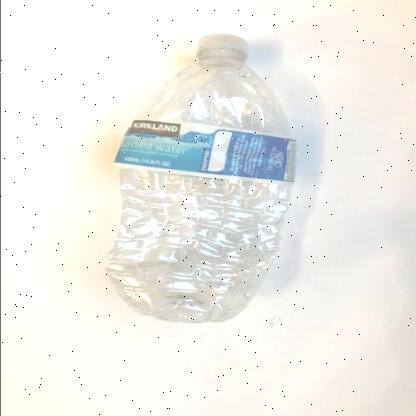Plastic Bottle: (106, 34, 294, 322)
